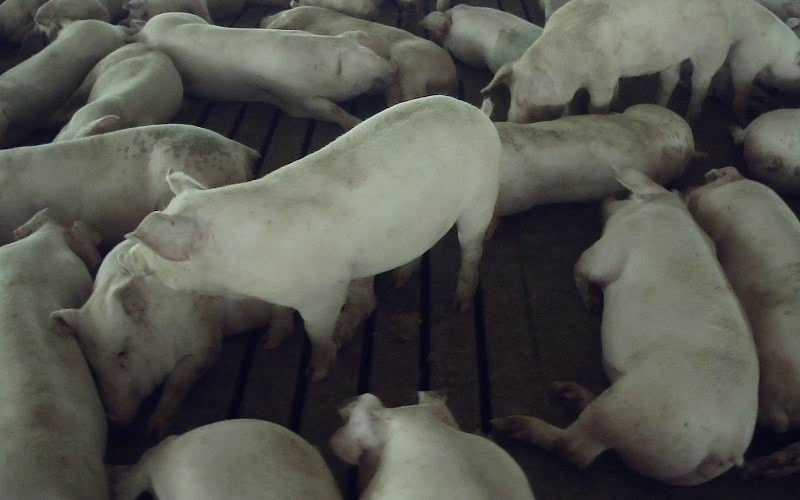pig: (493, 169, 756, 484), (52, 242, 271, 432), (0, 124, 257, 244), (0, 210, 106, 499), (483, 0, 731, 122), (137, 13, 394, 129), (687, 167, 799, 431), (487, 104, 693, 235), (331, 392, 533, 499), (261, 6, 456, 104), (108, 419, 340, 499), (0, 20, 128, 147), (54, 43, 182, 141), (419, 4, 542, 72), (734, 109, 799, 193)
